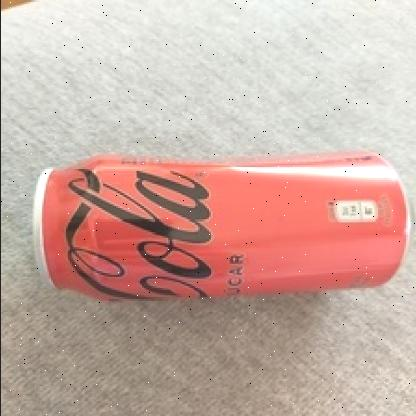Can: (30, 153, 408, 297)
